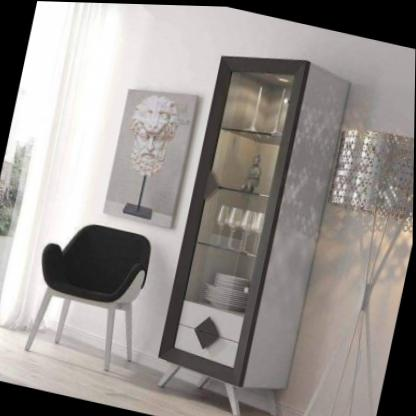Cupboard: (158, 56, 351, 416)
